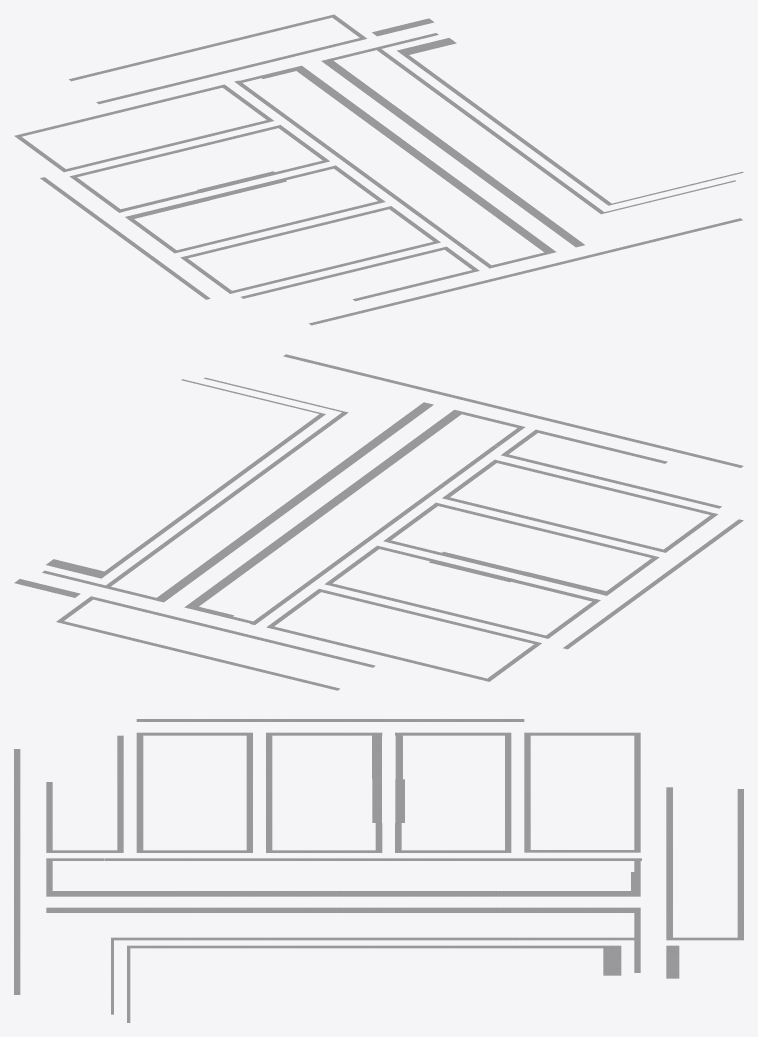
The model's file is sidewalk.fbx.
3 views of the same model, one above another, from view 1: azimuth 30°, elevation 25°; view 2: azimuth 150°, elevation 25°; view 3: azimuth 270°, elevation 25° (orthographic). The views are drawn at different scales.
Visible parts, largest first — view 1: SideWalk_Home0; view 2: SideWalk_Home0; view 3: SideWalk_Home0.
Boxes of the visible parts, x1=… form: SideWalk_Home0: x1=14, y1=14, x2=743, y2=325; SideWalk_Home0: x1=14, y1=354, x2=743, y2=690; SideWalk_Home0: x1=14, y1=719, x2=743, y2=1022.
Size of the model in its own units: 22243 by 5.2e-12 by 22593.
Materials: 1 (1 with a texture image).
